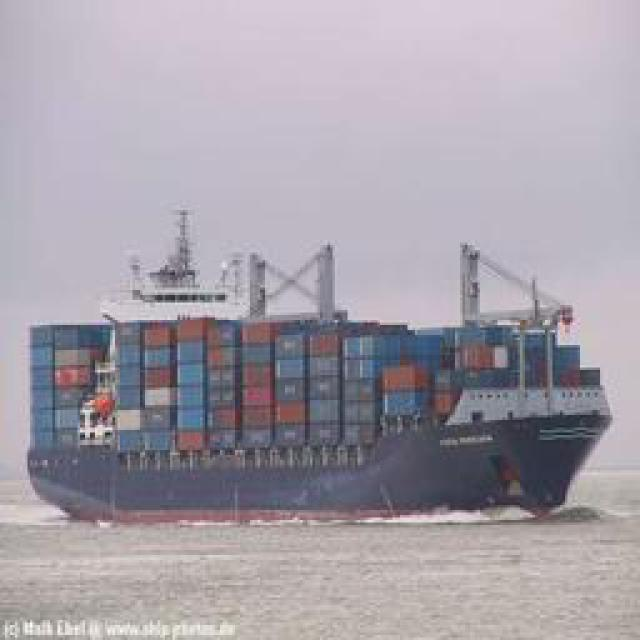Ship: (33, 221, 611, 514)
